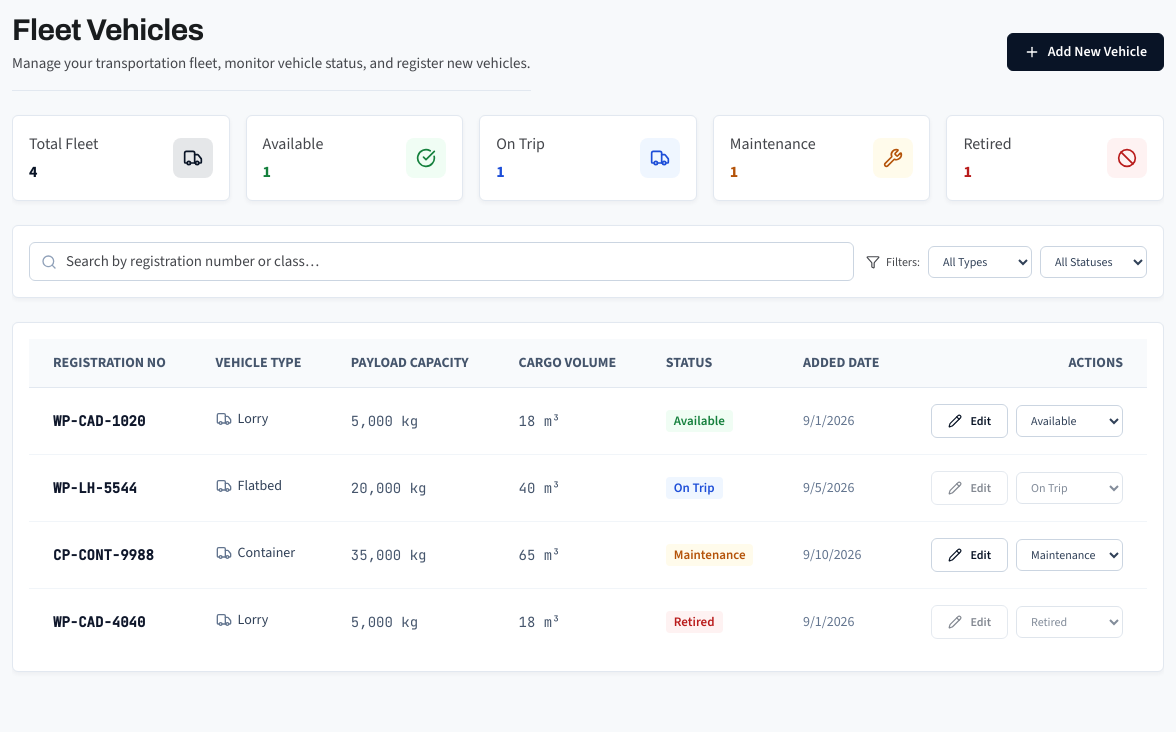
Test: FleetVehiclesPage › uses backend statuses in filters and locks OnTrip or Retired row actions
Expected: the button "Edit" in the row of "WP-LH-5544" is disabled, [931,471,1008,505]
Expected: the dropdown named "change status" is disabled, [1016,472,1123,504]
Step 1. Select "Retired" in the 2nd dropdown → (1094, 262), box [1040,246,1147,278]
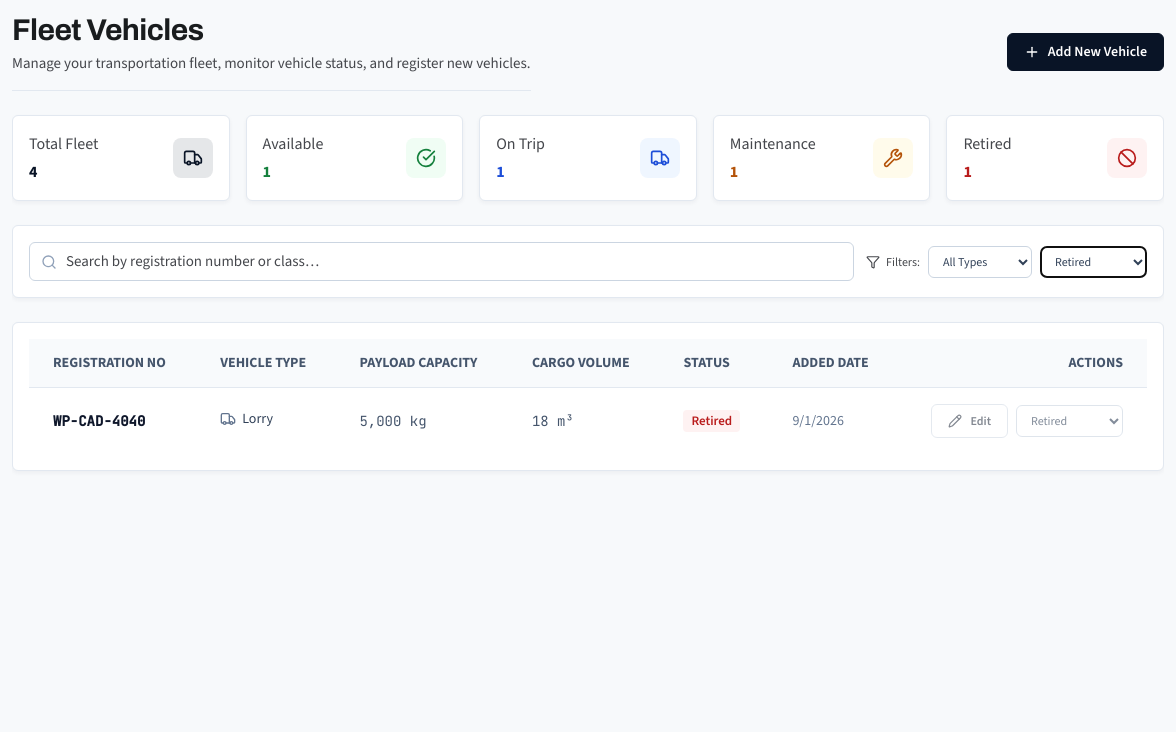
Expected: the text "WP-CAD-4040" is shown, [29,388,196,454]
Expected: the text "WP-CAD-1020" is gone
Step 2. Select "On Trip" in the 2nd dropdown → (1094, 262), box [1040,246,1147,278]
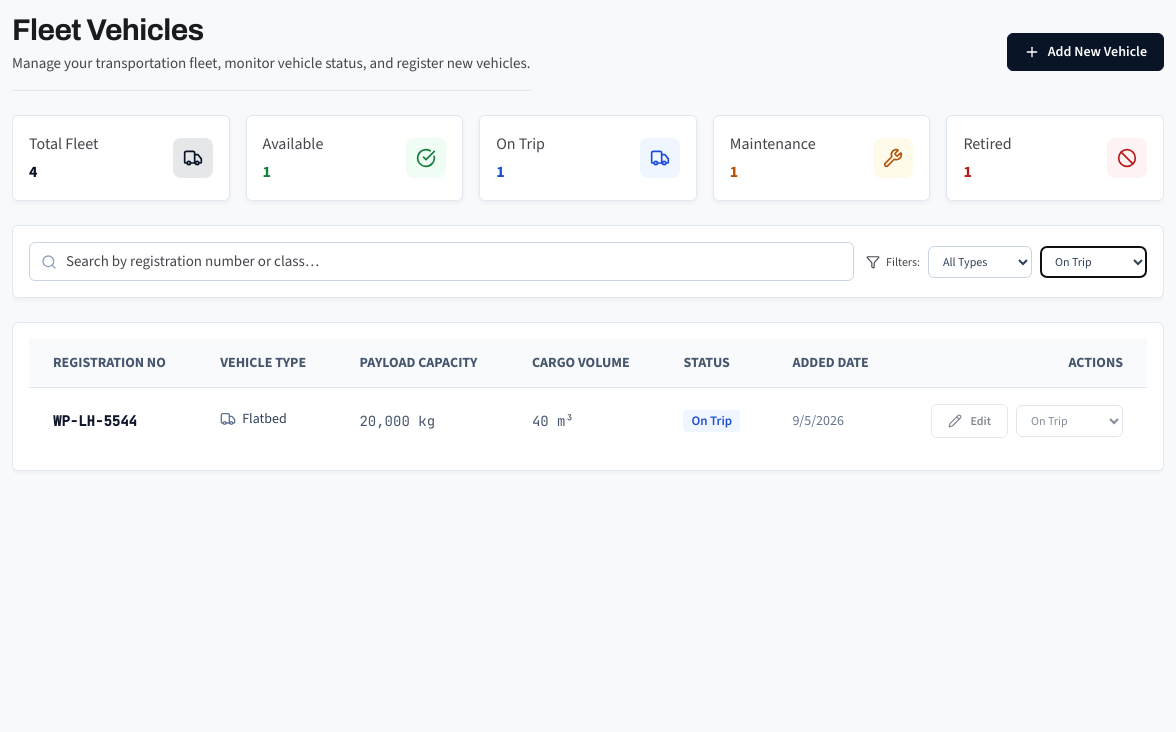
Expected: the text "WP-LH-5544" is shown, [29,388,196,454]
Expected: the text "WP-CAD-4040" is gone
